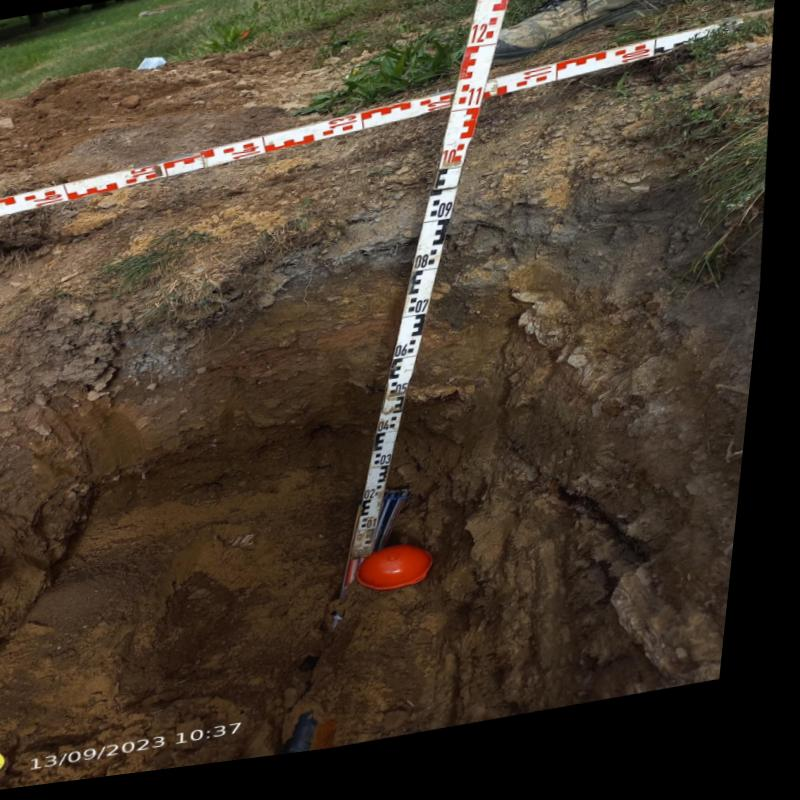Kugelmarker: (372, 557, 445, 602)
